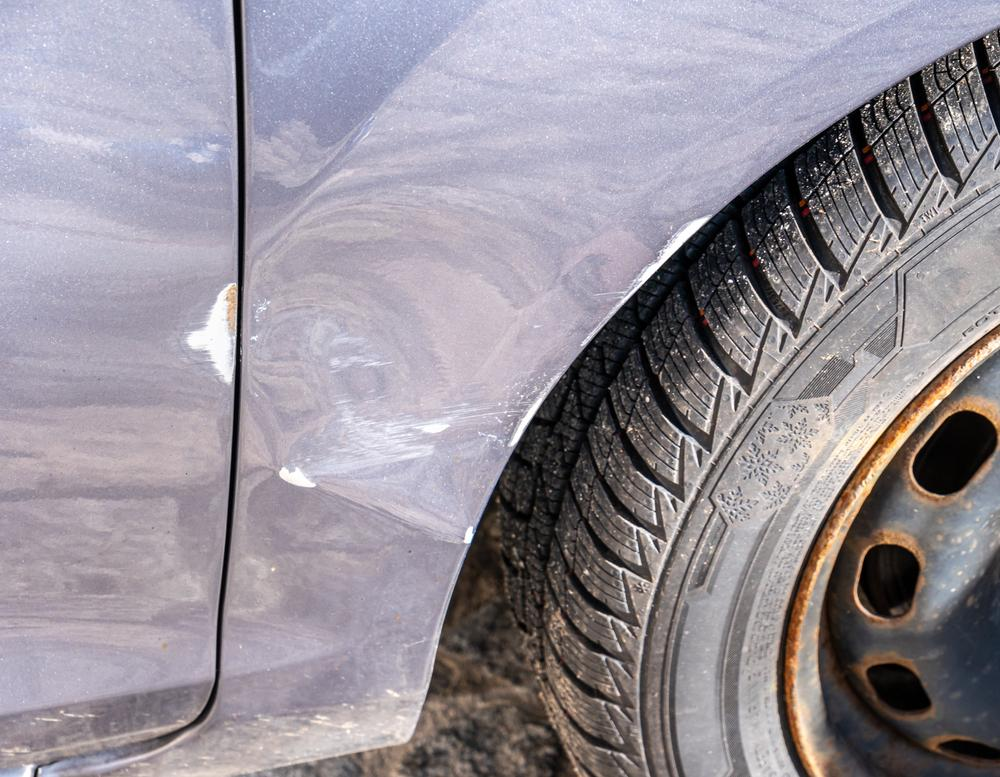dent: (243, 103, 715, 533)
scratch: (170, 283, 240, 386)
